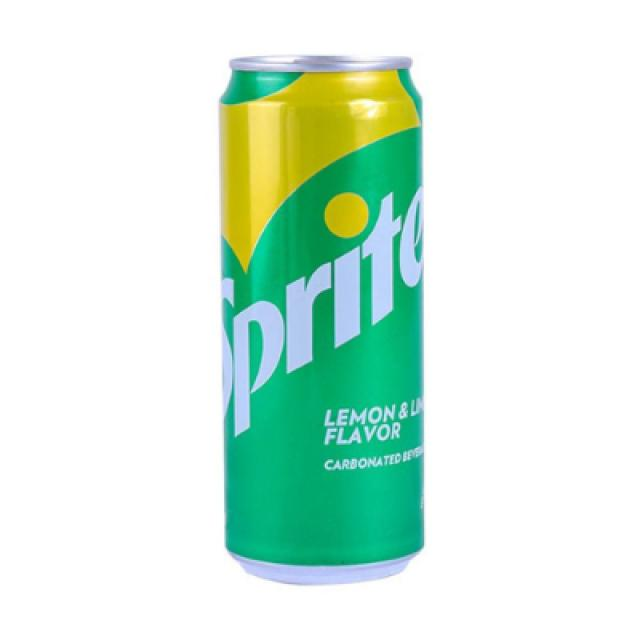sprite: (202, 51, 438, 584)
